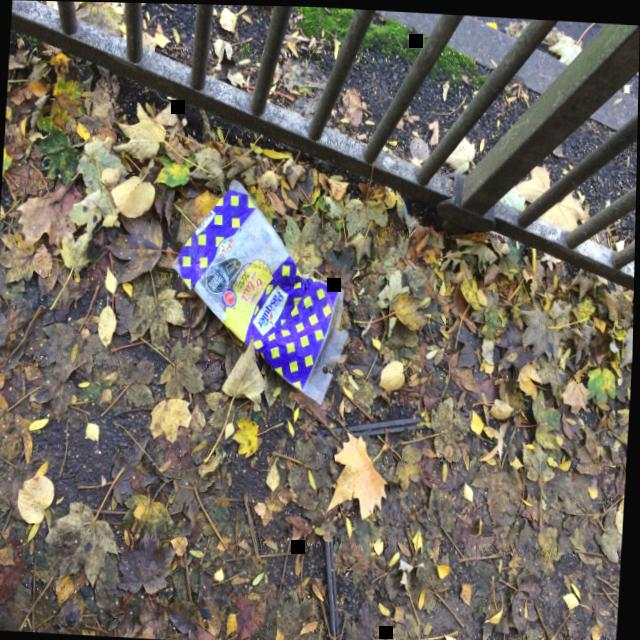Plastic film: (172, 178, 348, 404)
